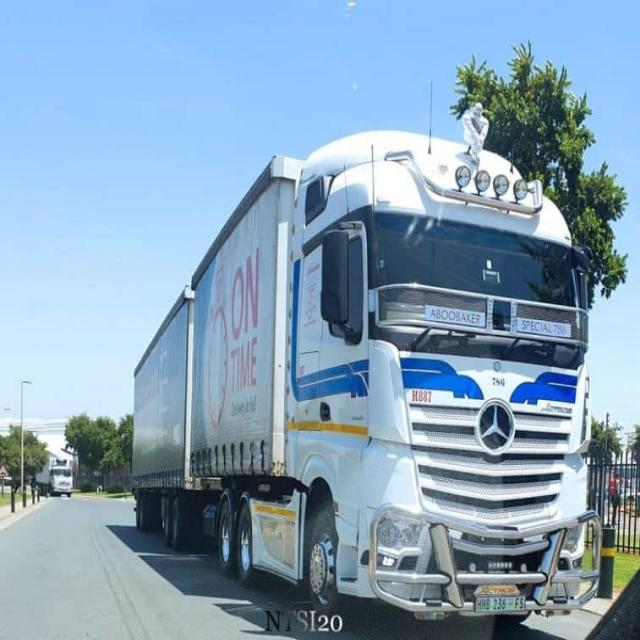Heavy Duty Truck: (92, 114, 611, 629), (31, 449, 76, 500)
